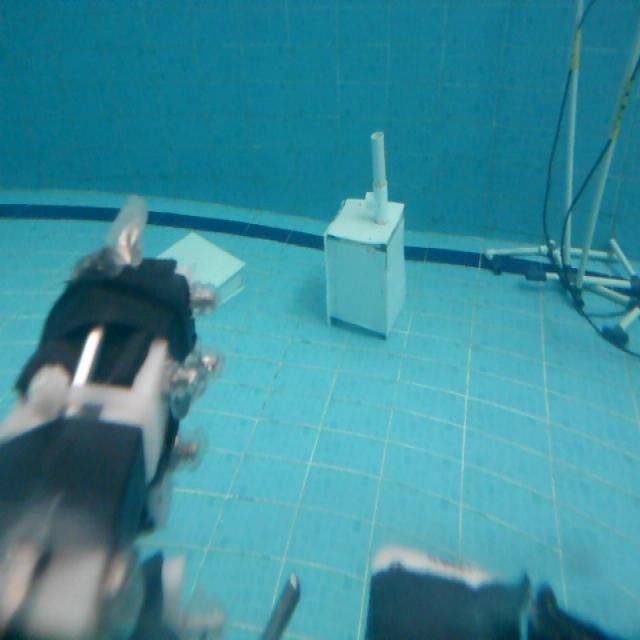Cube: (322, 192, 407, 339)
Cuboid: (154, 227, 247, 310)
